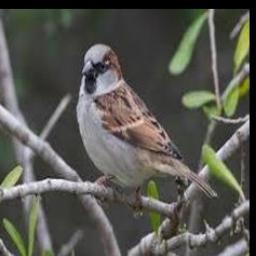Sparrow: (76, 43, 217, 200)
